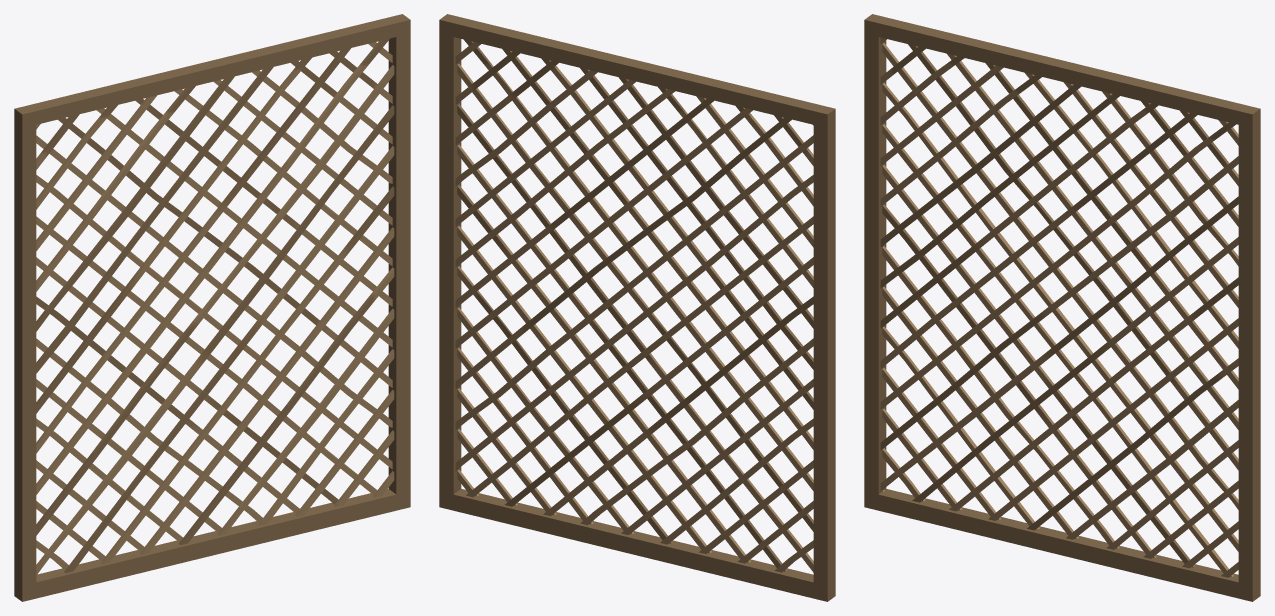
The model's file is SM_Bld_Wall_Feature_01.obj.
3 views of the same model, side by side, from view 1: azimuth 30°, elevation 25°; view 2: azimuth 150°, elevation 25°; view 3: azimuth 330°, elevation 25° (orthographic).
Visible parts, largest first — view 1: SM_Bld_Wall_Feature_01_0; view 2: SM_Bld_Wall_Feature_01_0; view 3: SM_Bld_Wall_Feature_01_0.
Part boxes in pixels (x1,y1,x2,y2): SM_Bld_Wall_Feature_01_0: (14,14,410,601); SM_Bld_Wall_Feature_01_0: (439,14,835,601); SM_Bld_Wall_Feature_01_0: (864,14,1260,601).
Size of the model in its own units: 2.5 by 3 by 0.0883.
1 material, 1 textured.
